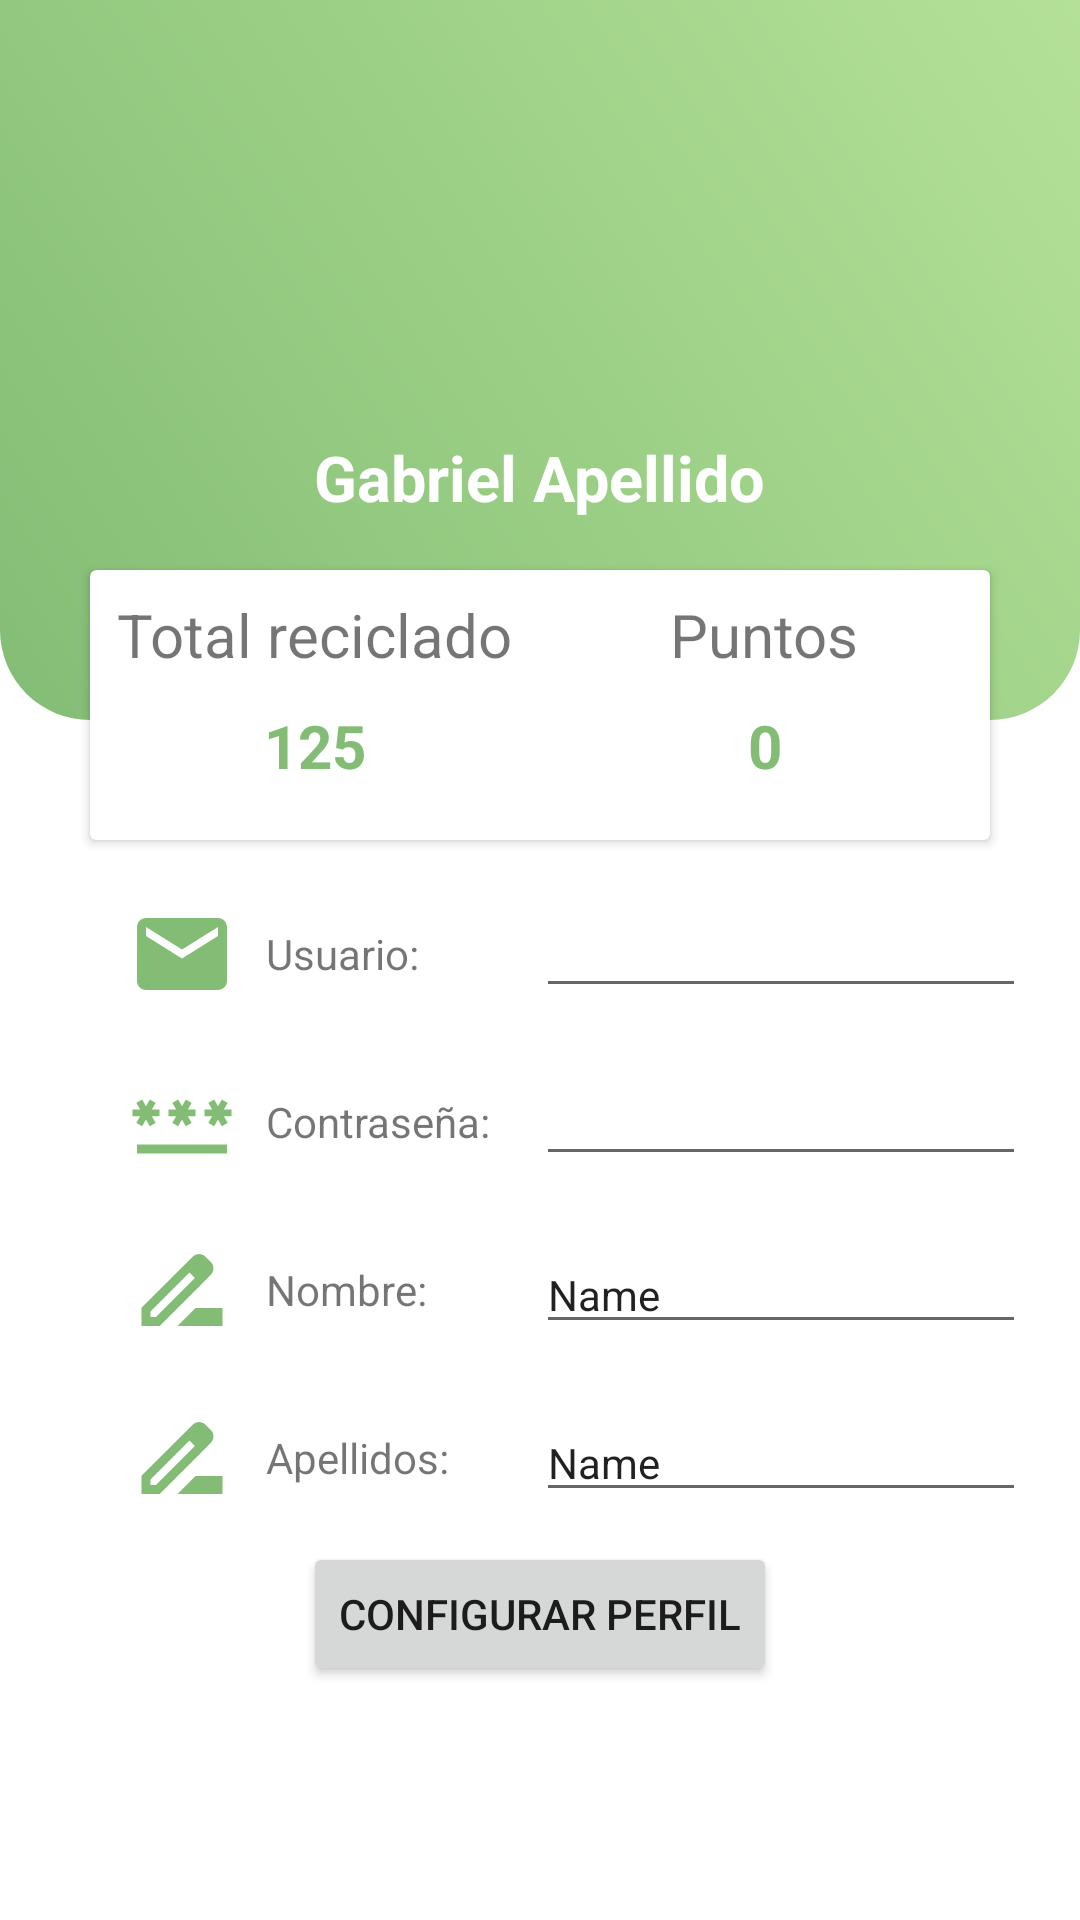

Screen size 1080×1920. Icon name, then its center in pixels as (x,y):
email: (182,954)
password: (182,1126)
rename: (182,1290), (182,1458)
